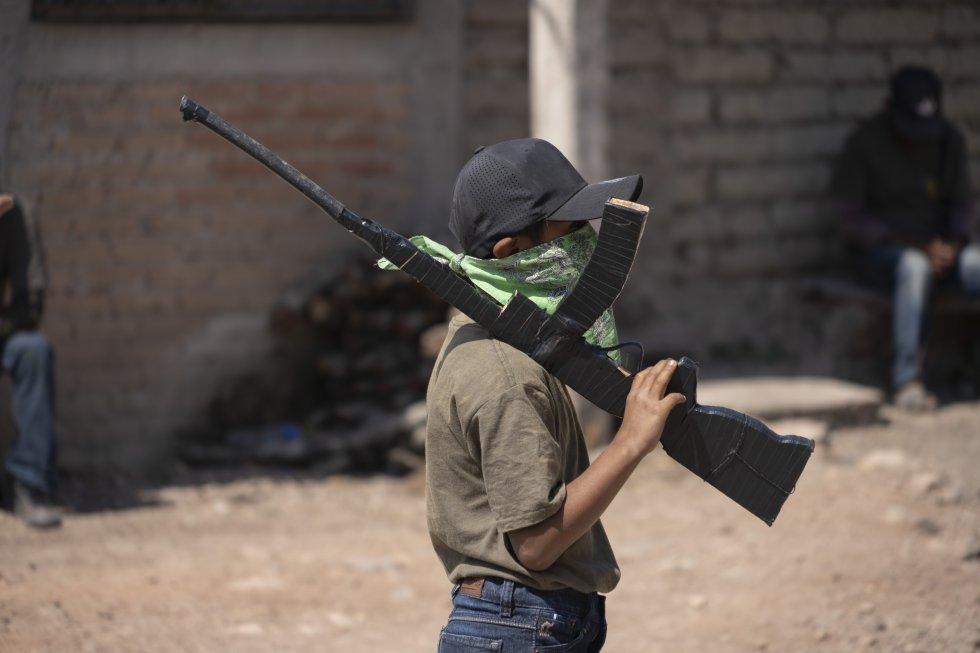larga: (180, 98, 818, 528)
